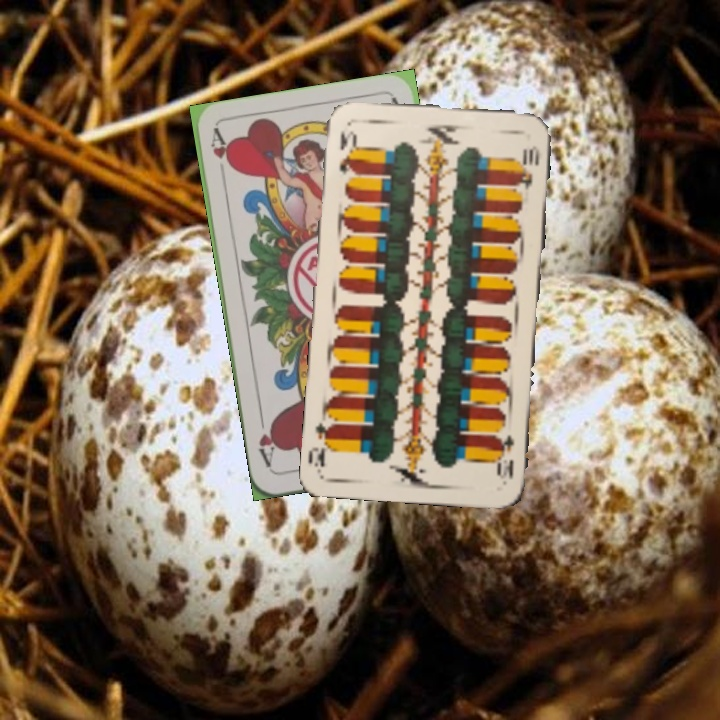E10: (492, 431, 517, 482), (335, 127, 358, 177)
HA: (206, 126, 233, 171)
